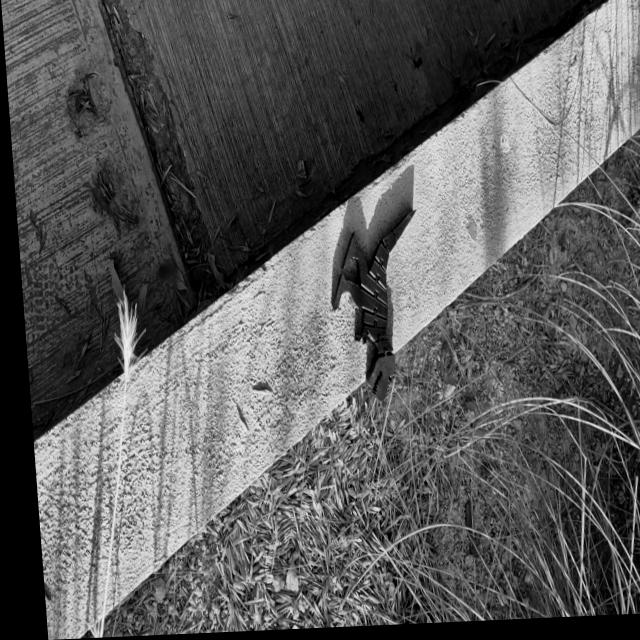dino: (323, 208, 431, 404)
